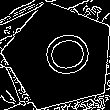O_W: (29, 29, 90, 83)
